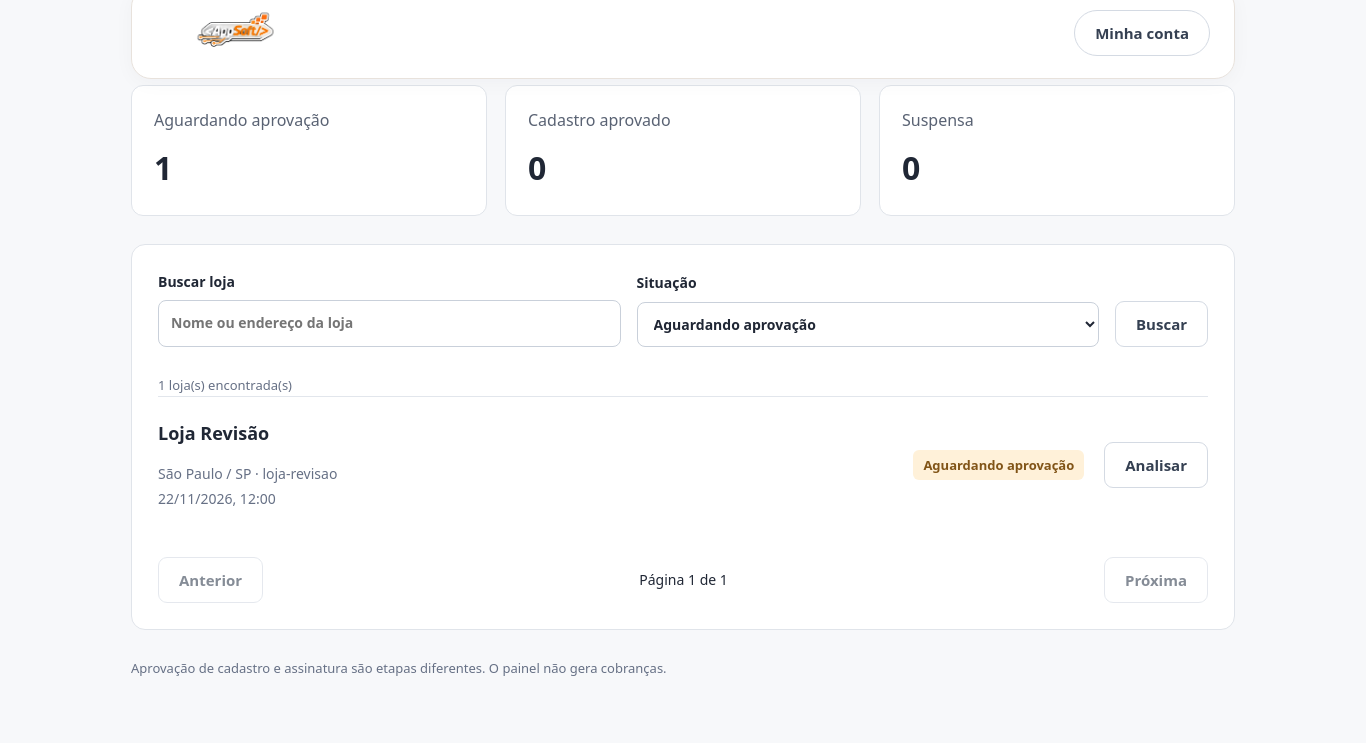
Test: aprovação envia status esperado e observação e atualiza a lista
(page scrolled)
Click the button with aria-label "Analisar Loja Revisão" at (1156, 465), box x1=1104 y1=442 x2=1208 y2=488
(page scrolled)
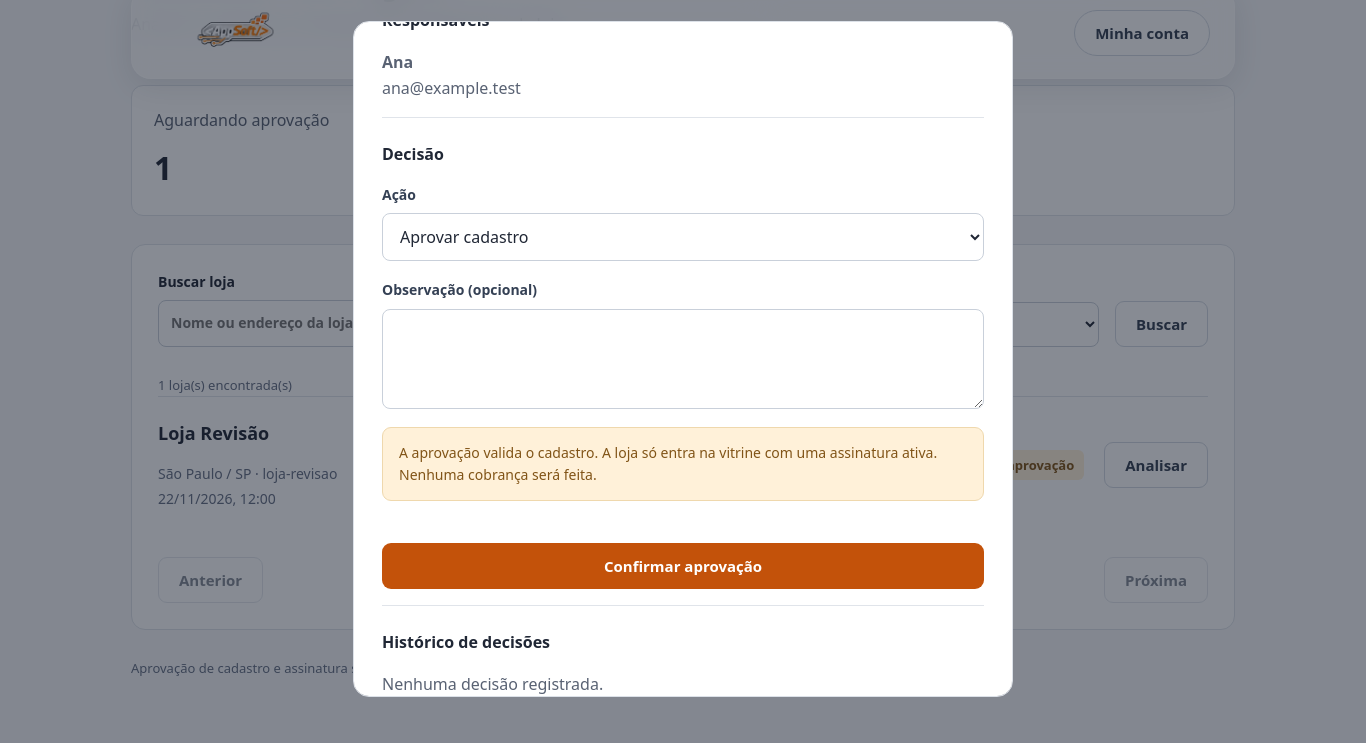
Expected: the text "ana@example.test" is shown, x1=382 y1=77 x2=521 y2=99
Type "Dados conferidos" into the text box labelled "Observação (opcional)" at (683, 359), box x1=382 y1=309 x2=984 y2=409
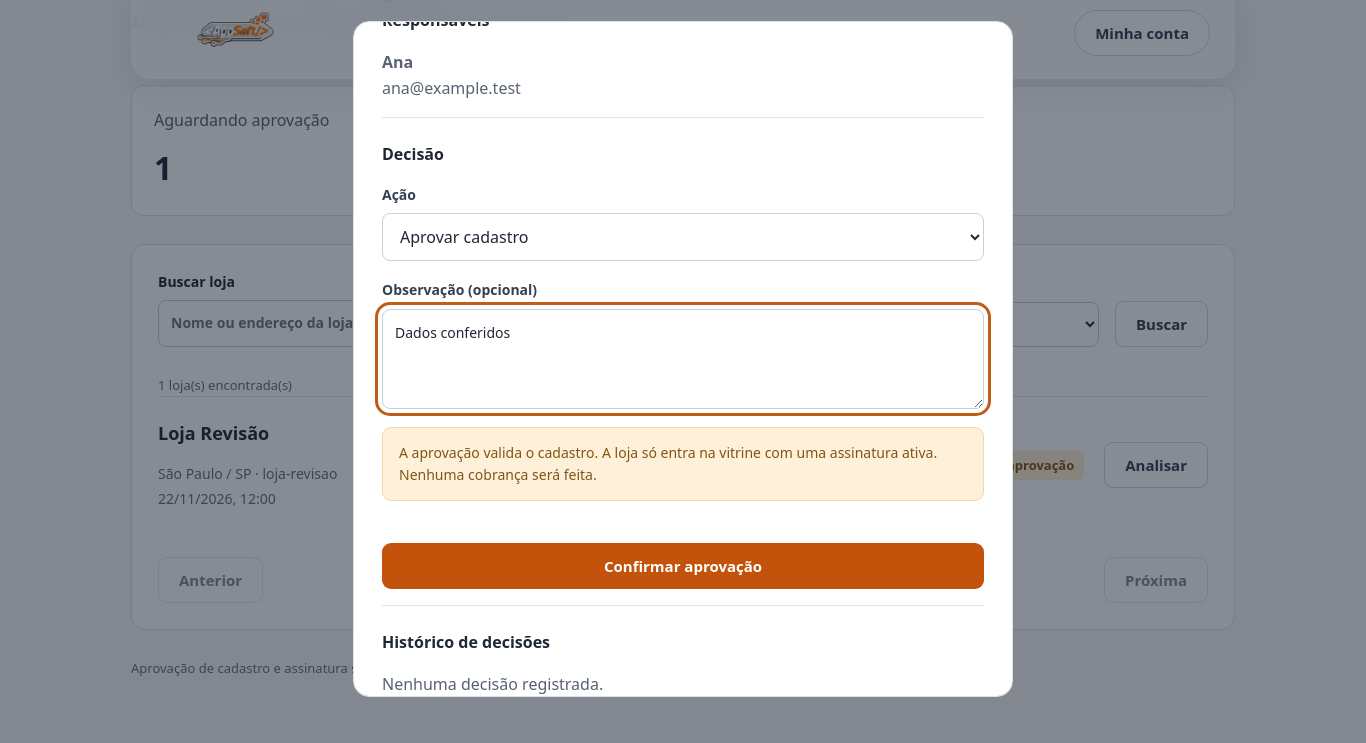
Click the button "Confirmar aprovação" at (683, 566), box x1=382 y1=543 x2=984 y2=589
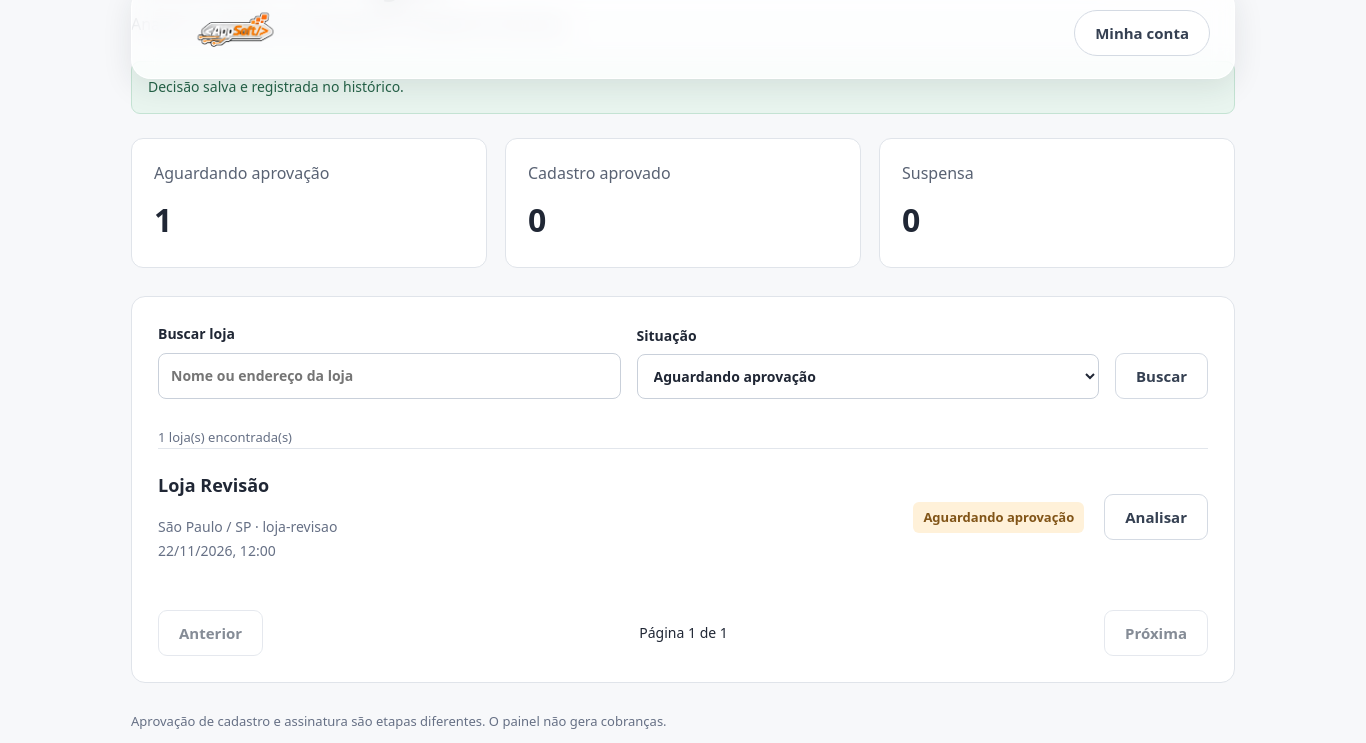
Expected: the text "Decisão salva e registrada no histórico." is shown, x1=131 y1=61 x2=1235 y2=114
